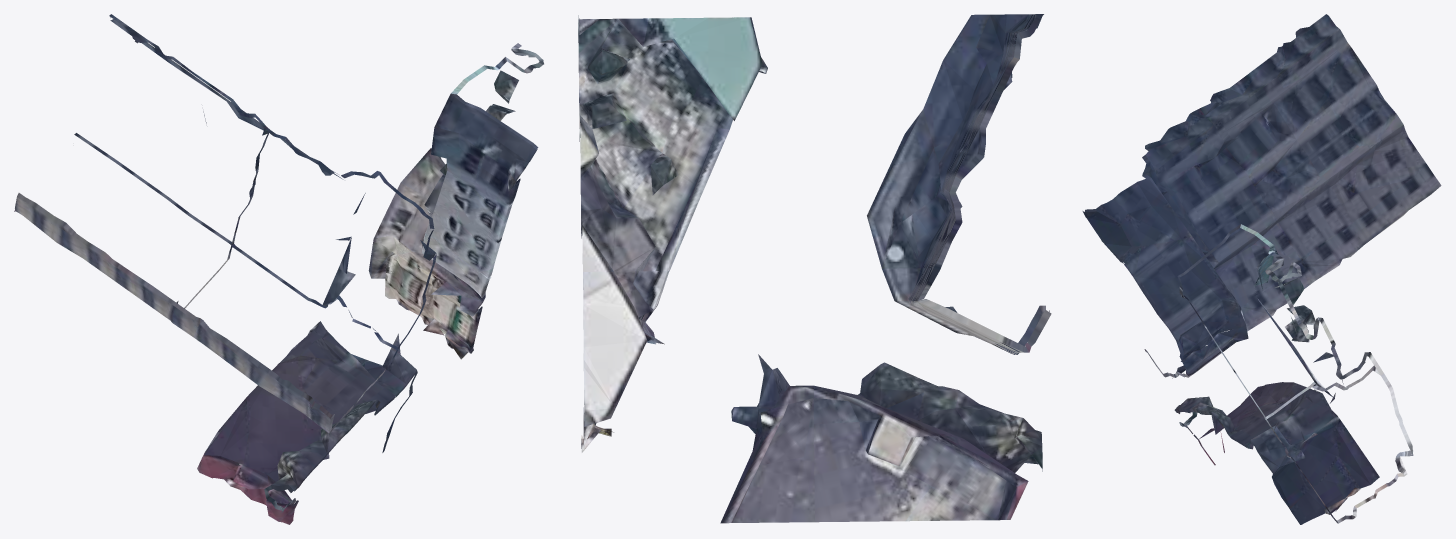
3 views of the same model, side by side, from view 1: azimuth 30°, elevation 25°; view 2: azimuth 150°, elevation 25°; view 3: azimuth 270°, elevation 25° (orthographic). The views are drawn at different scales.
Size of the model in its own units: 48.87 by 50.02 by 40.06.
Materials: 2 (2 with a texture image).
